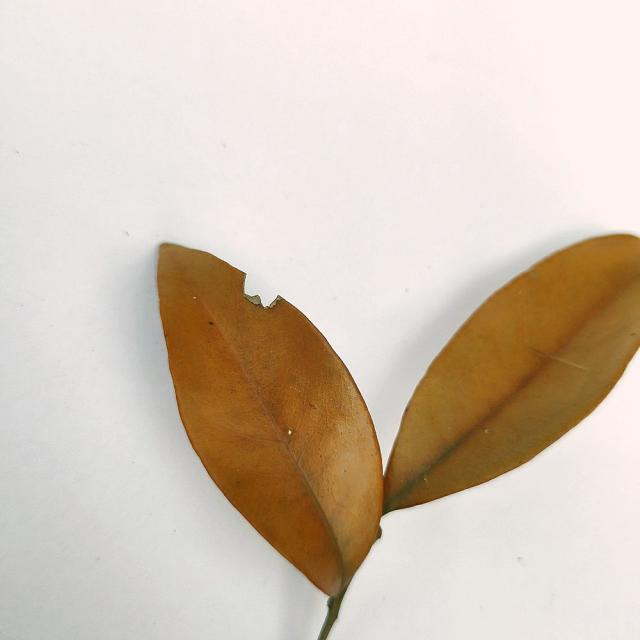Dry_Leaf-Lychee: (155, 234, 639, 639)
